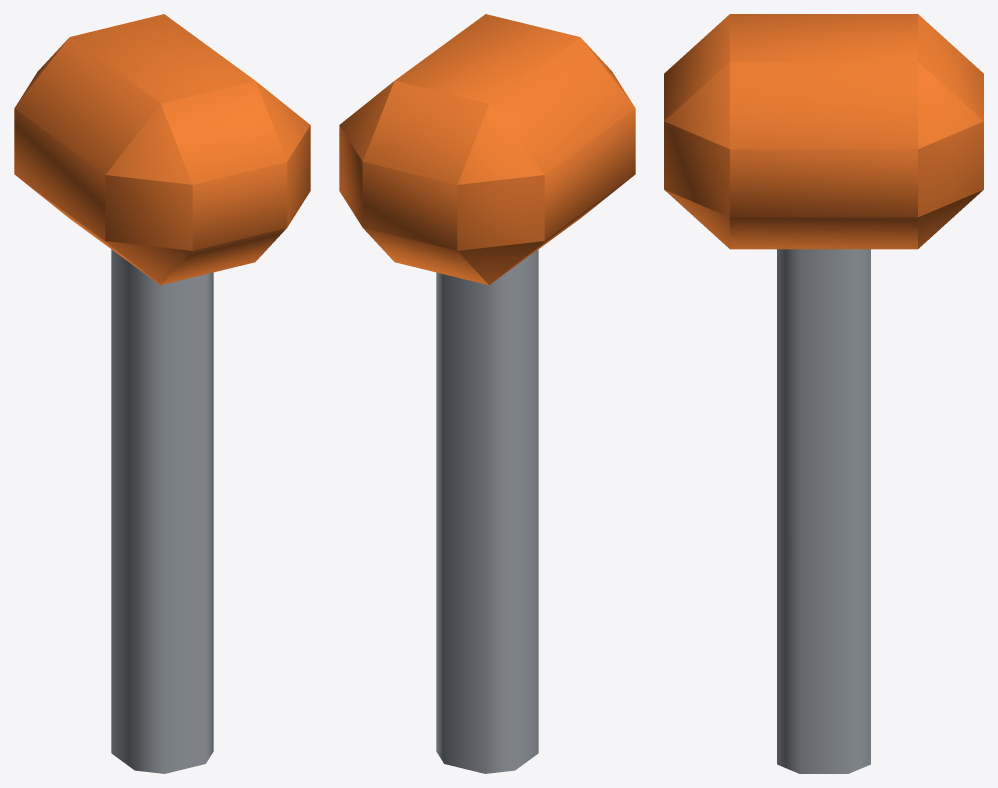
Rendered from PalancaGases.fbx.
The picture shows the model from 3 angles, left to right: view 1: azimuth 30°, elevation 25°; view 2: azimuth 150°, elevation 25°; view 3: azimuth 270°, elevation 25°; orthographic projection. The views are drawn at different scales.
Parts seen in each view (by area): view 1: PalancaGases; view 2: PalancaGases; view 3: PalancaGases.
Boxes of the visible parts, x1,y1,x2,y2 form: PalancaGases: (14, 14, 310, 773); PalancaGases: (339, 14, 635, 773); PalancaGases: (664, 14, 983, 773).
Bounding box in the file's own units: 0.13 × 0.42 × 0.17.
Materials: 1 (1 with a texture image).
